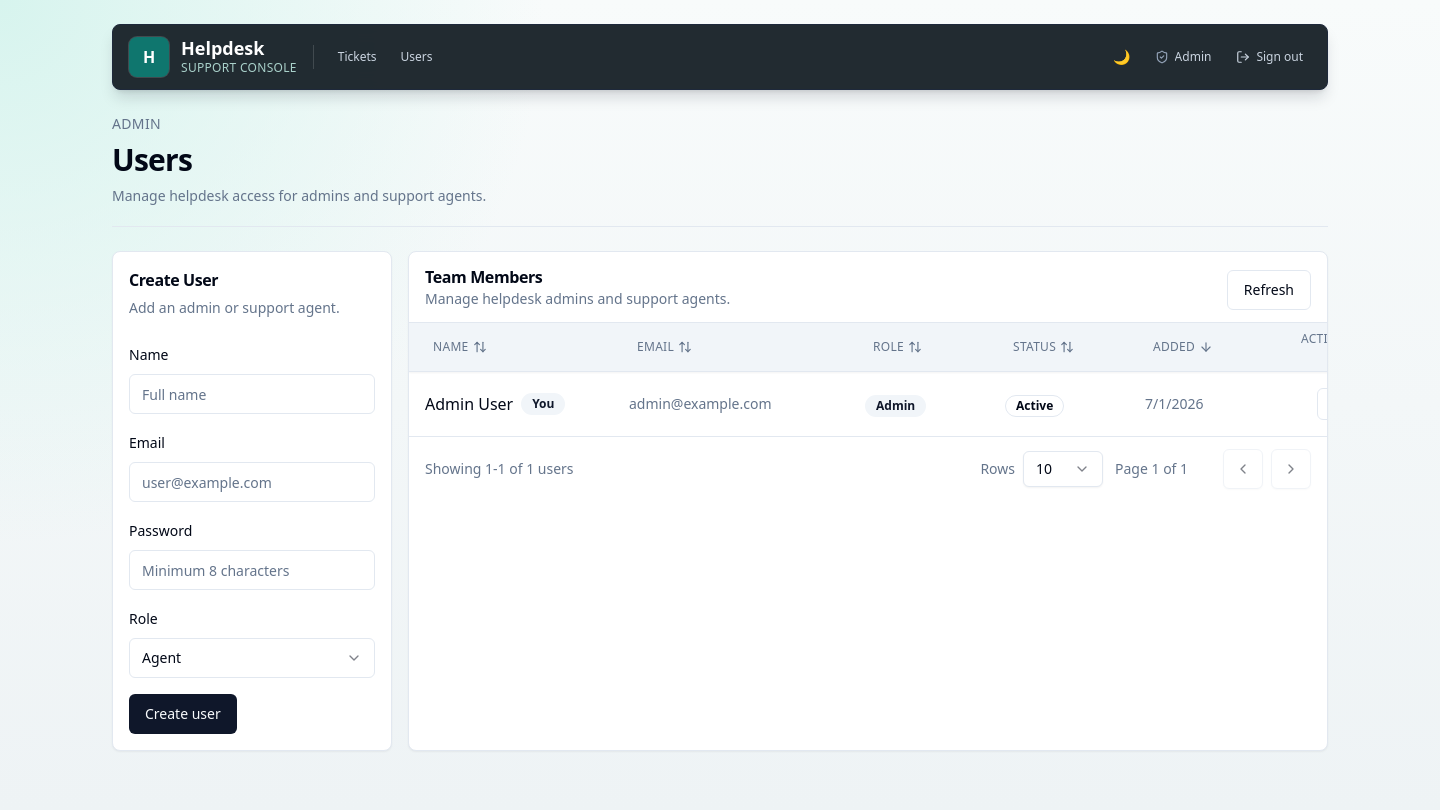
Test: Users page › validates minimum password length before creating a user
This screenshot has width=1440, height=810.
Expected: the text "admin@example.com" is shown, x1=629 y1=394 x2=772 y2=413
In the field labelled "Name": {"x": 252, "y": 394} x1=129 y1=374 x2=375 y2=414, type "New Agent"
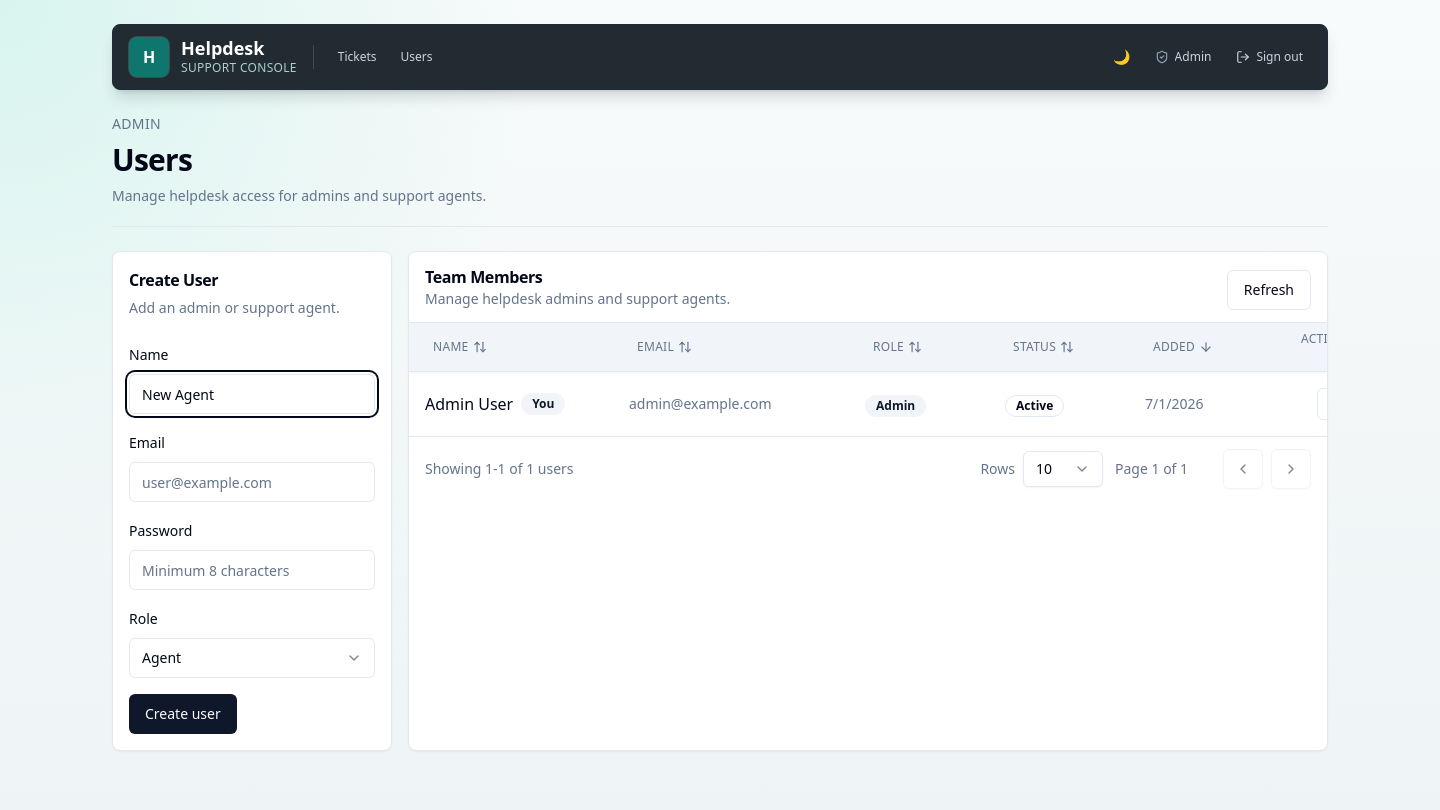
In the field labelled "Email": {"x": 252, "y": 482} x1=129 y1=462 x2=375 y2=502, type "new.agent@example.com"
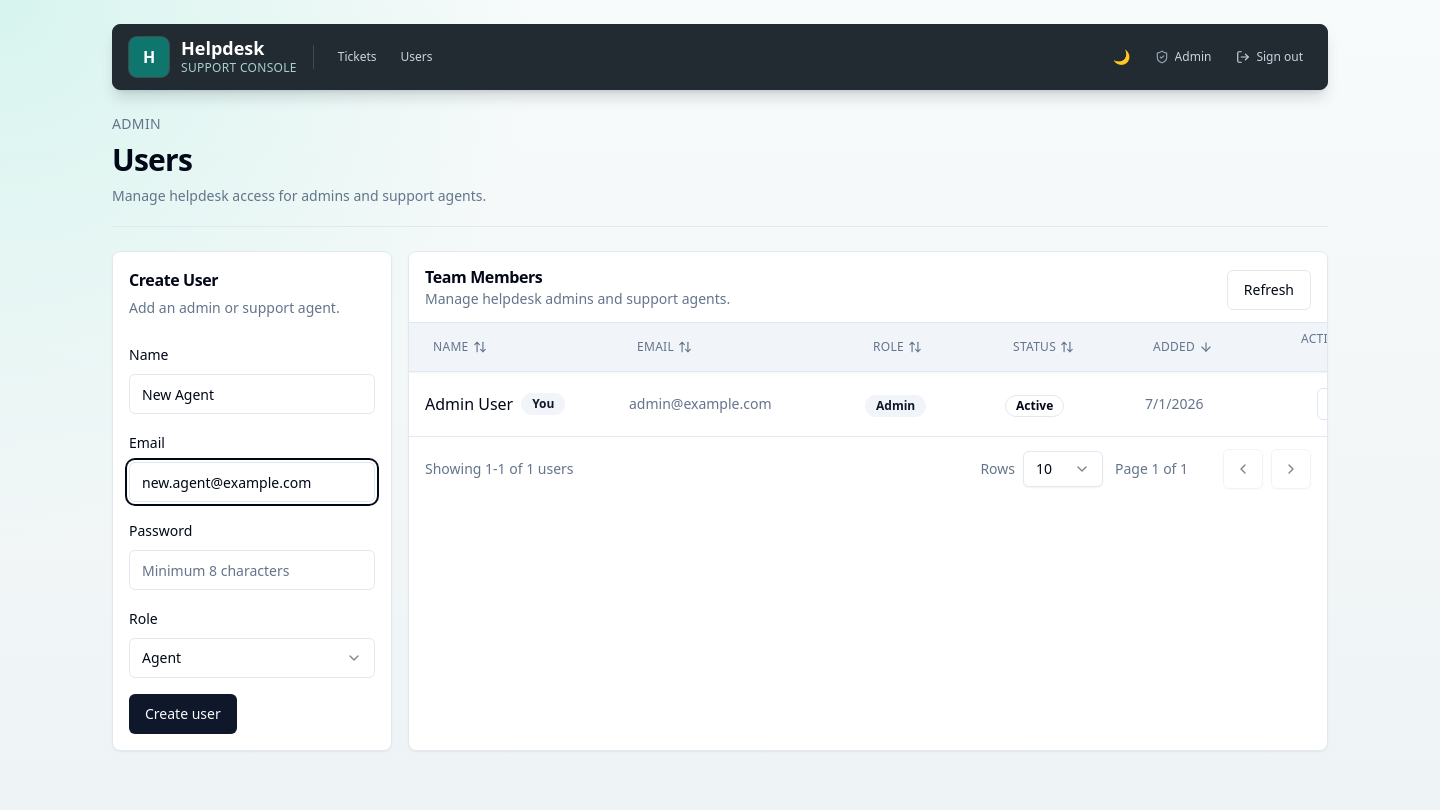
In the password field labelled "Password": {"x": 252, "y": 570} x1=129 y1=550 x2=375 y2=590, type "short"
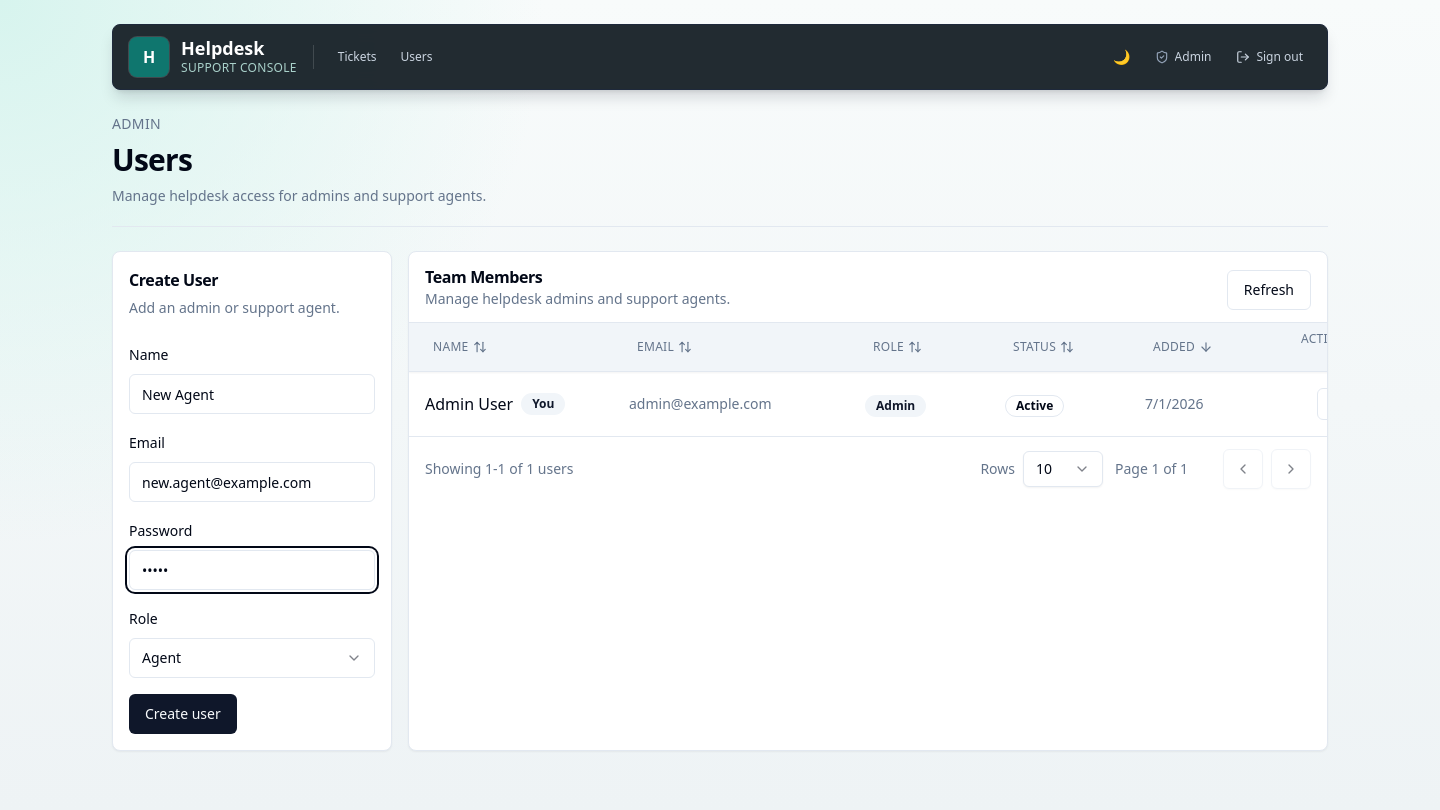
Click the button "Create user": {"x": 183, "y": 714} x1=129 y1=694 x2=237 y2=734
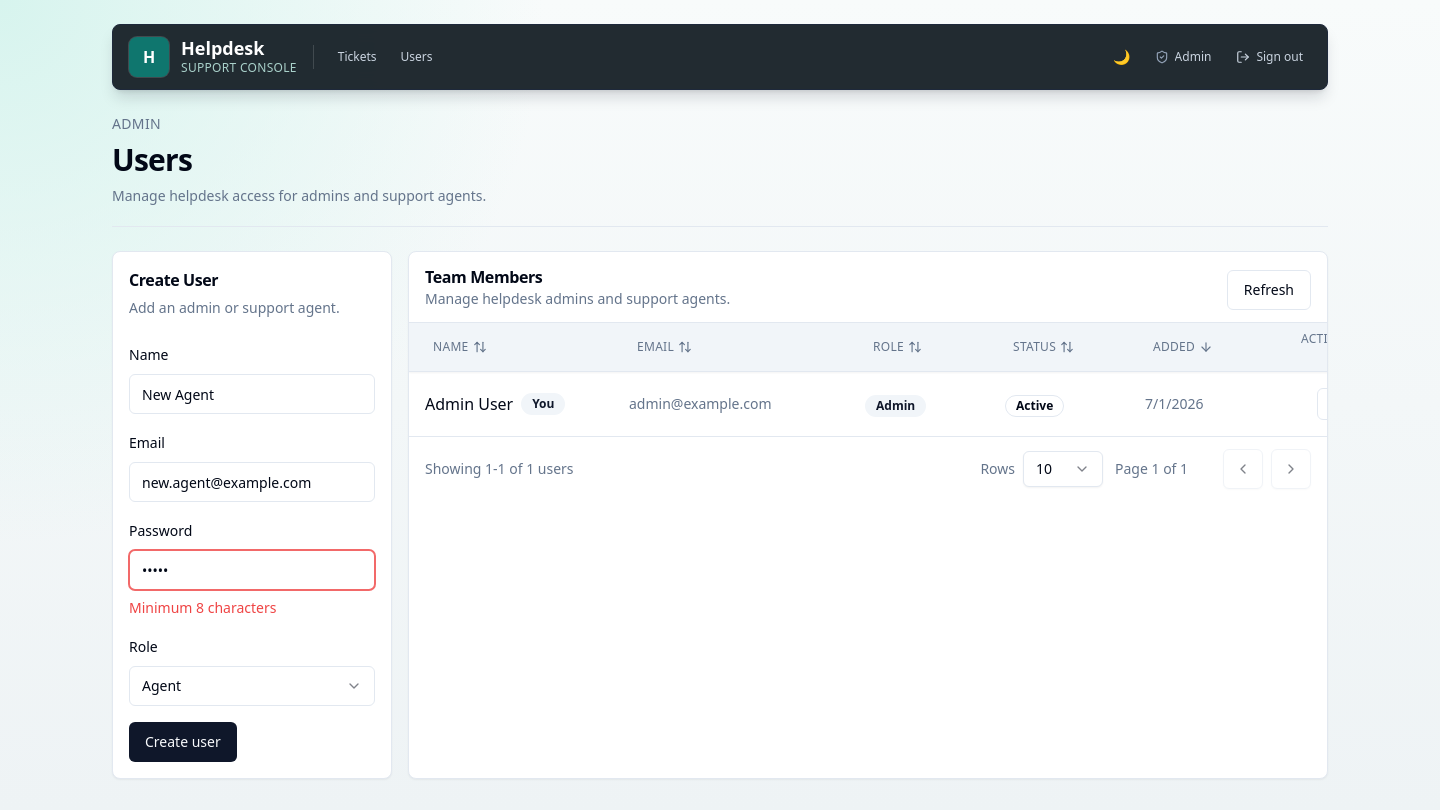
Expected: the text "Minimum 8 characters" is shown, x1=129 y1=598 x2=276 y2=617
